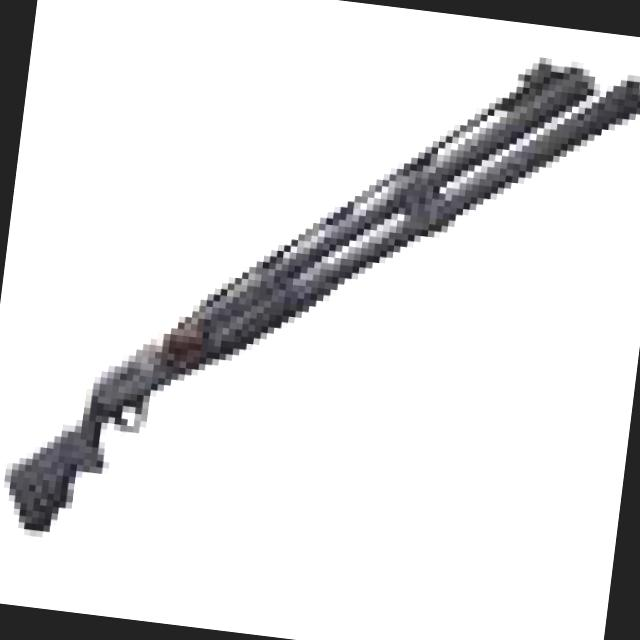long weapon: (0, 39, 640, 557)
